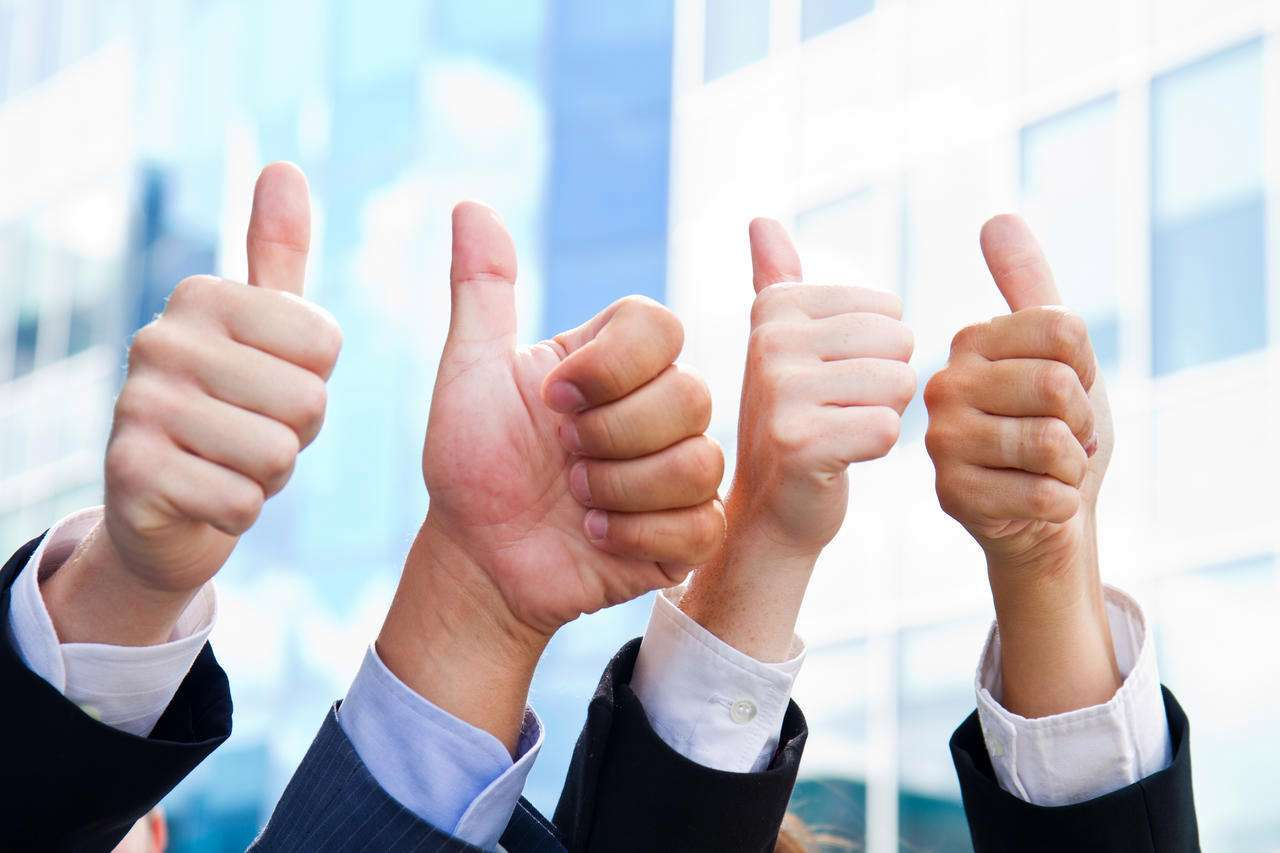no-phone: (417, 194, 731, 623), (95, 151, 349, 598), (735, 189, 925, 554), (924, 208, 1120, 558)
